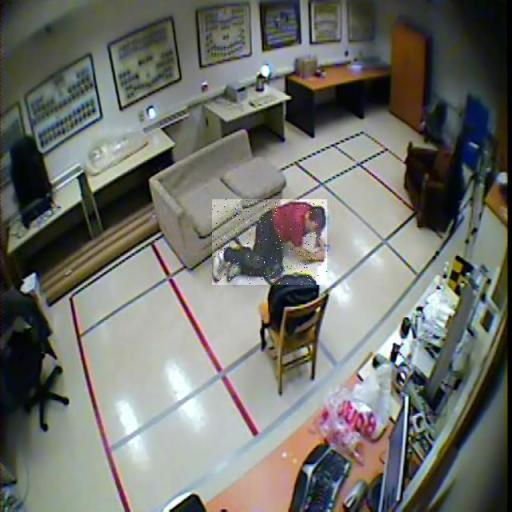Fall: (213, 199, 330, 285)
